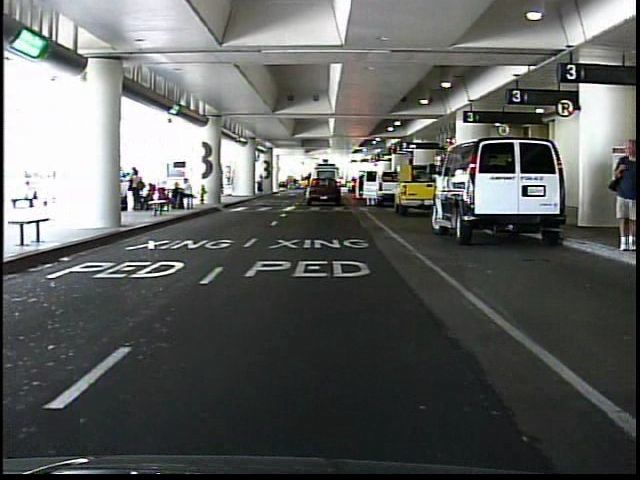person: (607, 132, 637, 255), (256, 172, 268, 196)
